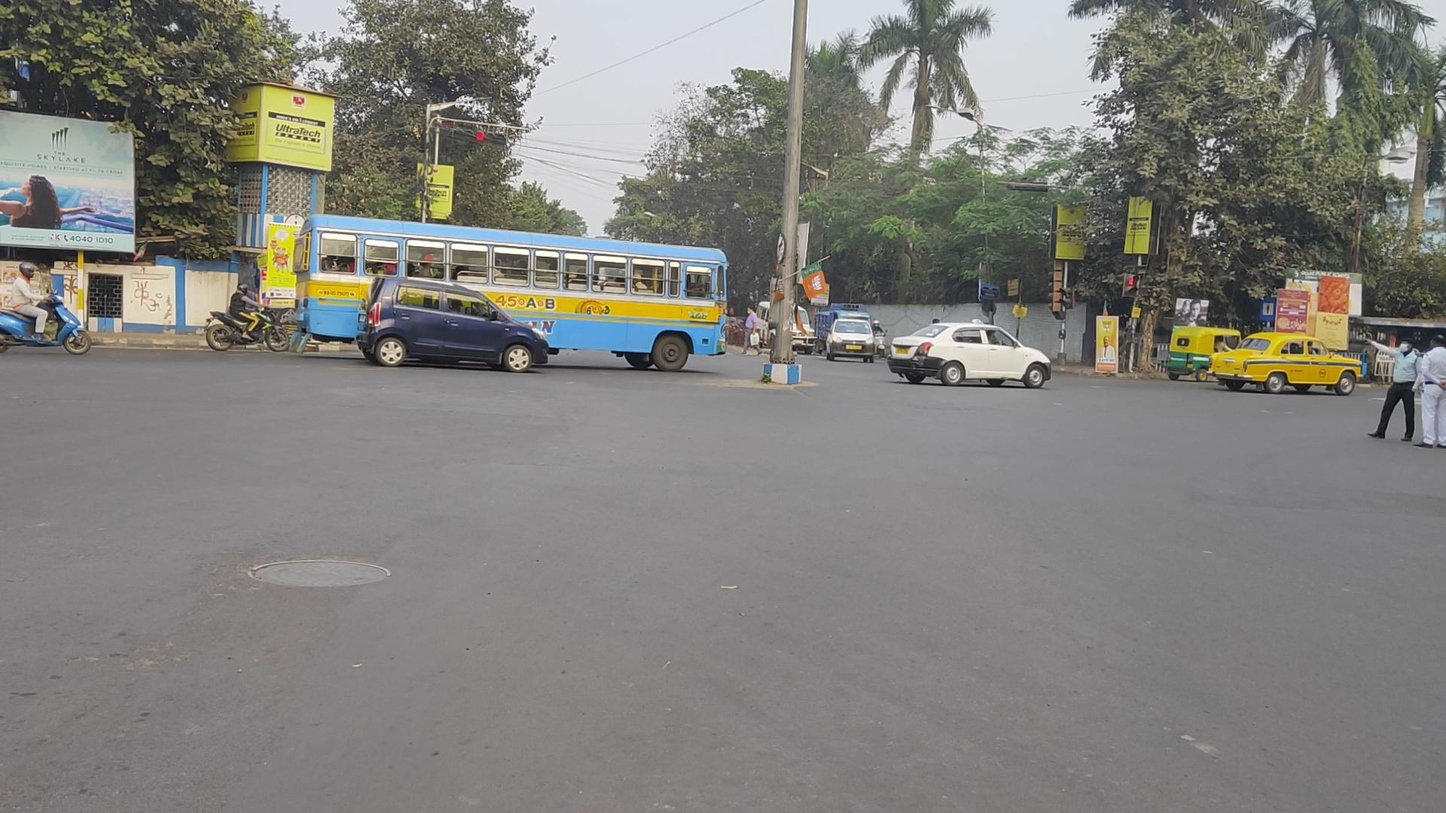Auto: (1162, 327, 1243, 382)
Bus: (292, 213, 729, 372)
bike: (1, 260, 91, 355), (204, 282, 289, 352), (872, 320, 889, 360)
car: (355, 276, 549, 373), (889, 321, 1052, 389), (1207, 332, 1362, 395), (755, 300, 816, 356), (825, 318, 875, 364)
